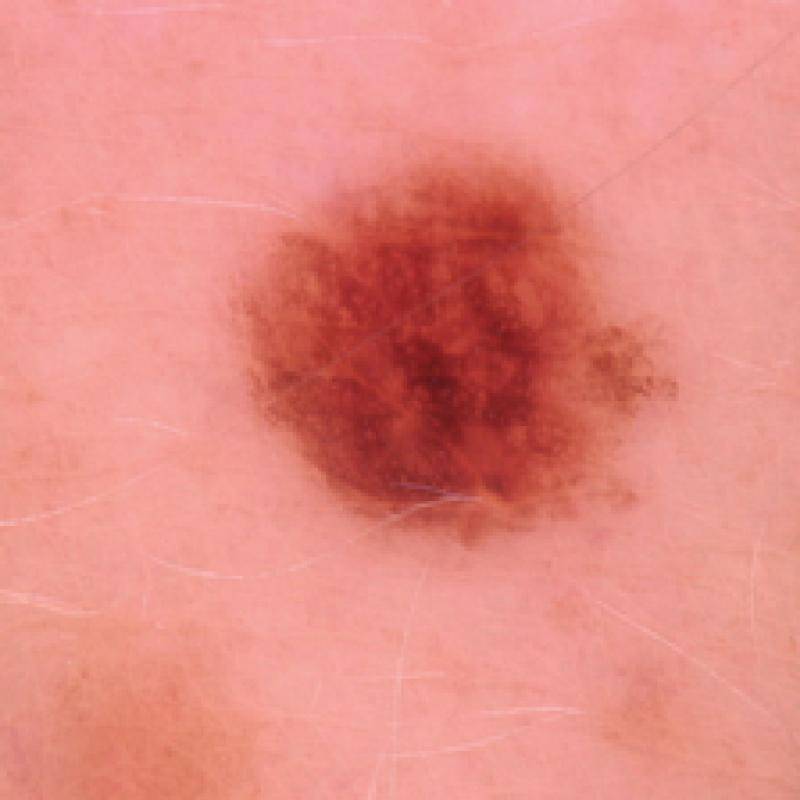benign: (203, 117, 741, 587)
